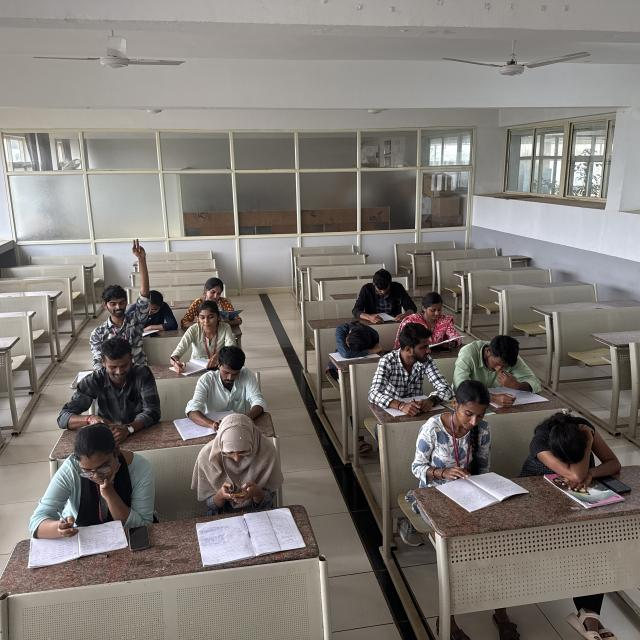Hand Rising: (91, 238, 152, 364)
Reading: (424, 378, 505, 507), (181, 353, 272, 436), (458, 332, 542, 405), (399, 293, 465, 349), (351, 270, 418, 320), (180, 276, 244, 324), (137, 282, 182, 335), (334, 318, 384, 357)
Sleeping: (526, 411, 619, 477)
Using Phone: (188, 415, 281, 507)
Writing: (29, 425, 128, 559), (371, 328, 444, 415), (167, 301, 238, 374)
